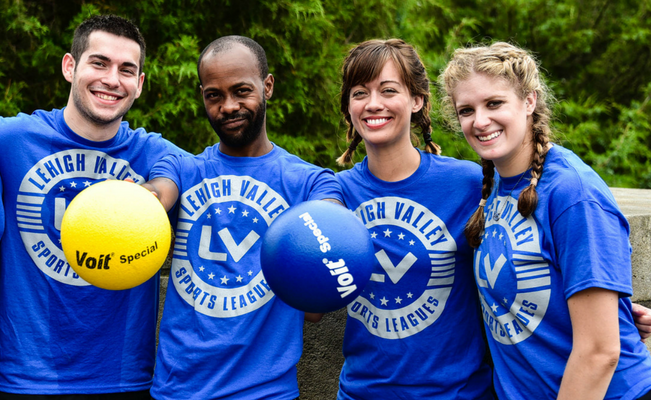blue ball: (261, 199, 378, 312)
